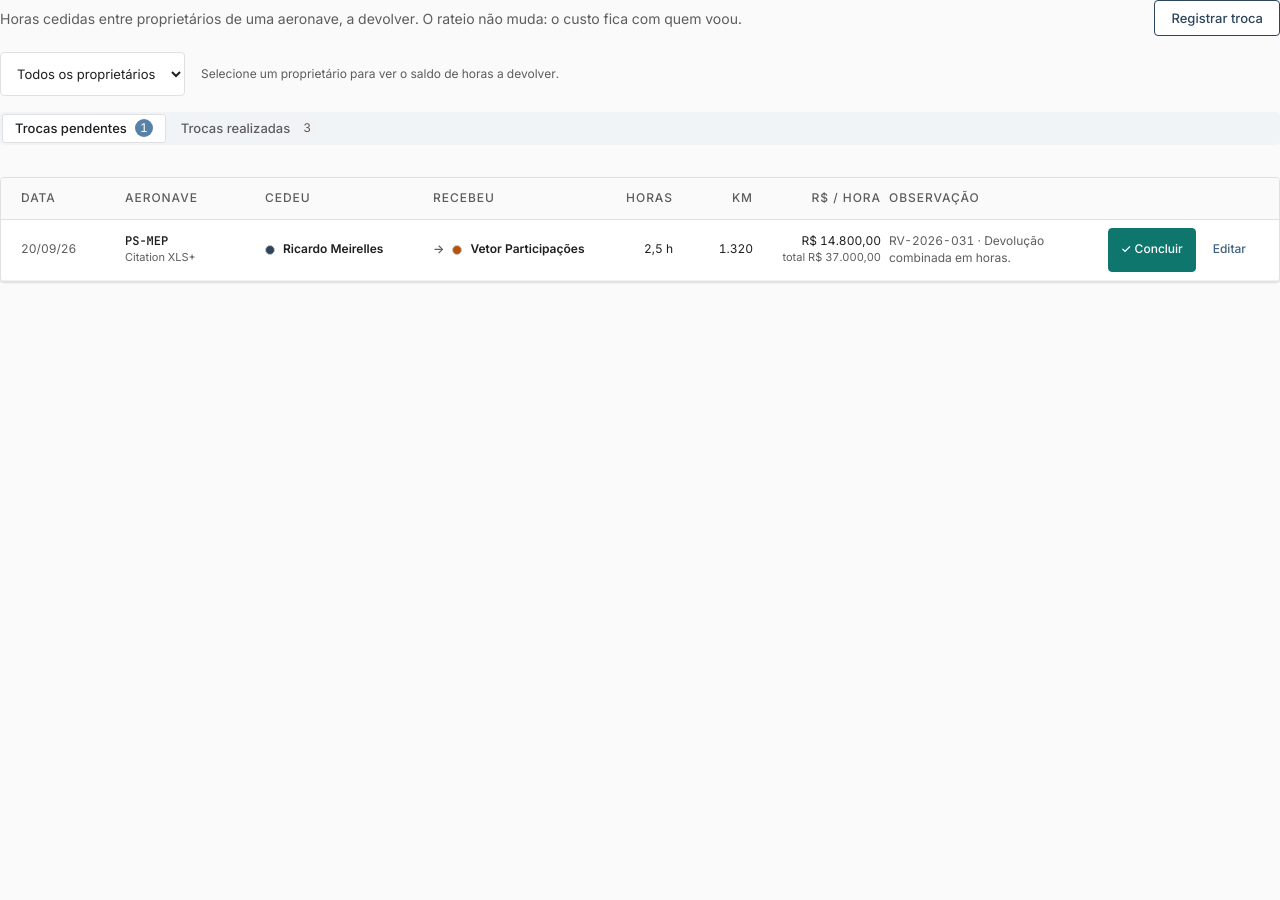
Scenario: PaginaDeTrocas › a falha ao reabrir aparece no painel, que continua aberto
The width and height of the screenshot is (1280, 900).
Check: the text "RV-2026-031 · Devolução combinada em horas." is shown, box top-left (889, 233), bottom-right (1044, 265)
Click the tab "Trocas realizadas 3".
click(248, 128)  # box top-left (168, 114), bottom-right (329, 143)
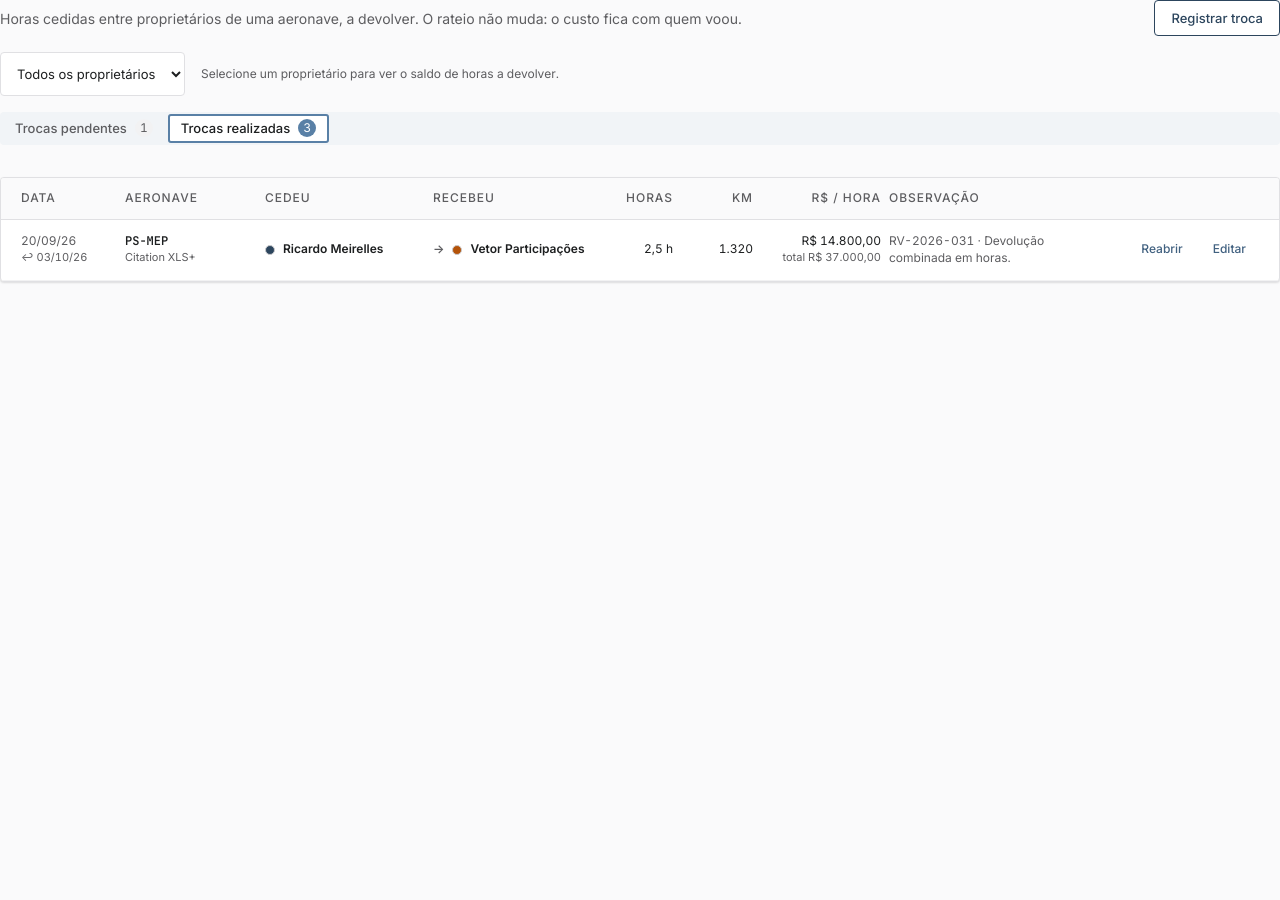
Click the button with aria-label "Reabrir troca de Ricardo Meirelles para Vetor Participações".
click(1162, 250)  # box top-left (1128, 228), bottom-right (1196, 272)
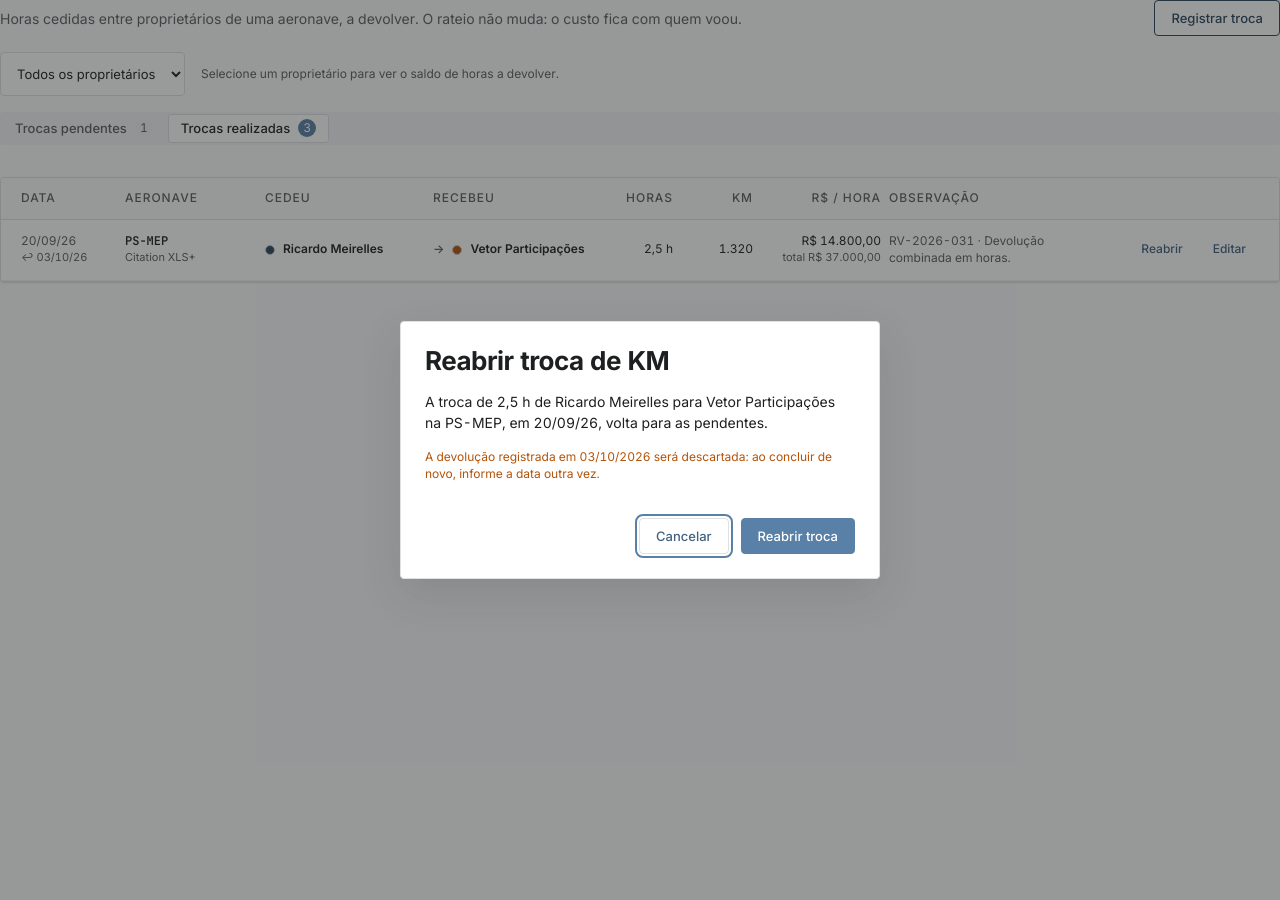
Click the button "Reabrir troca".
click(798, 536)  # box top-left (741, 518), bottom-right (855, 554)
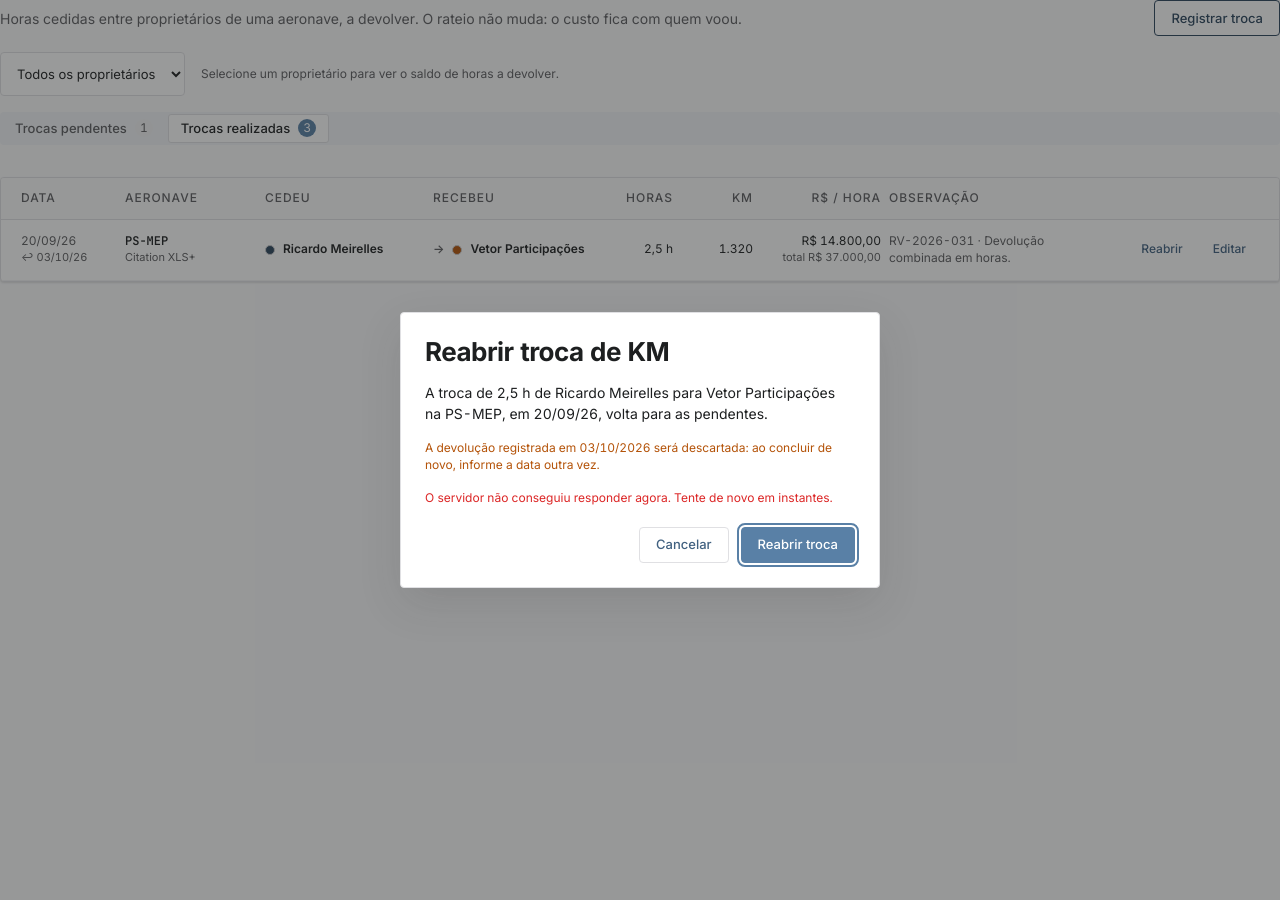
Check: the dialog "Reabrir troca de KM" is shown, box top-left (400, 312), bottom-right (880, 588)
Check: the text "O servidor não conseguiu responder agora. Tente de novo em instantes." is shown, box top-left (425, 490), bottom-right (855, 507)
